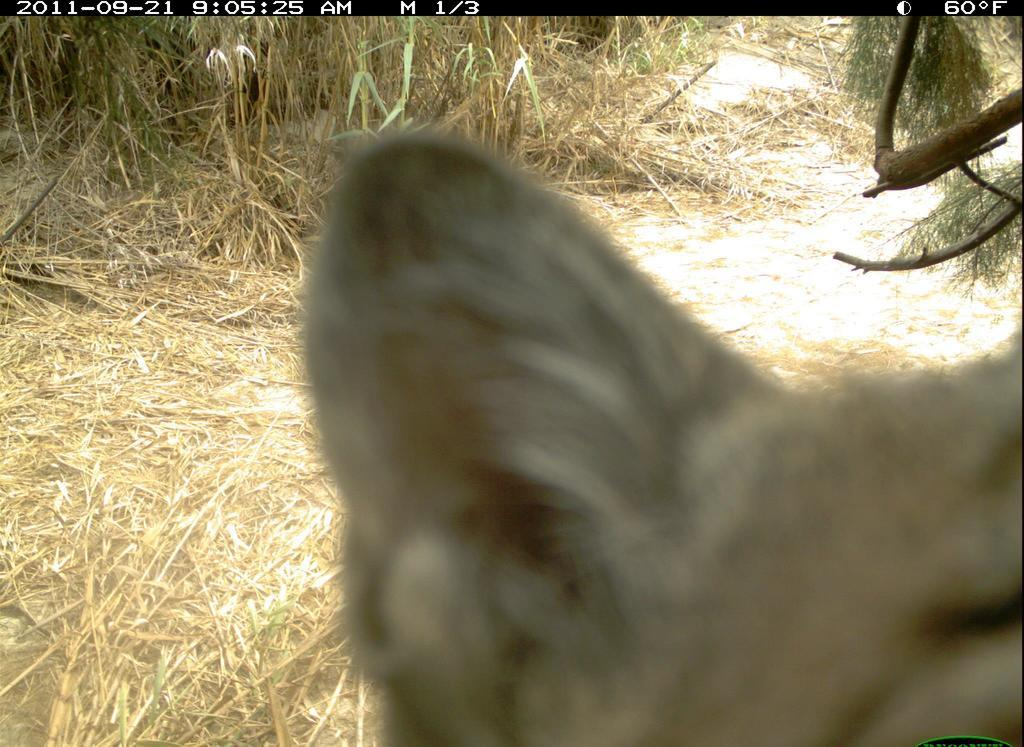bobcat: (306, 130, 1021, 747)
